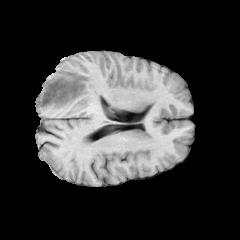glioma: (38, 68, 97, 112)
